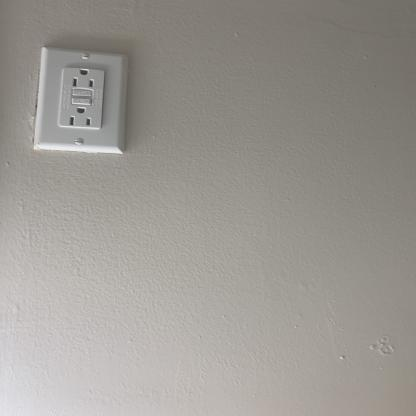OUTLET: (34, 47, 130, 150)
